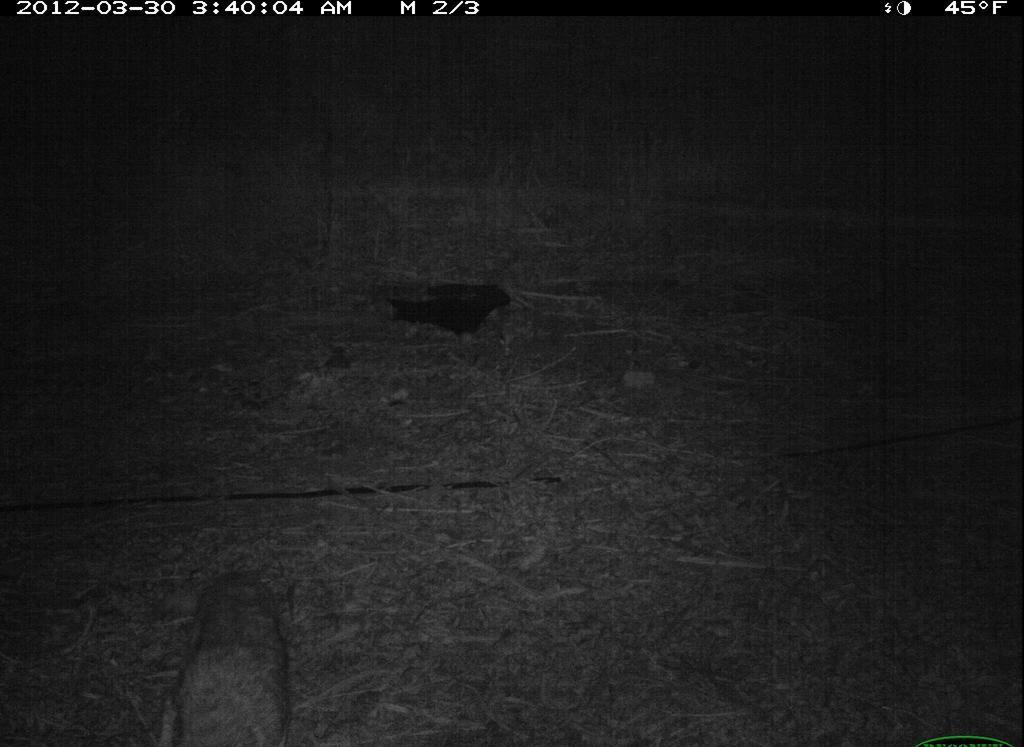coyote: (132, 568, 300, 745)
